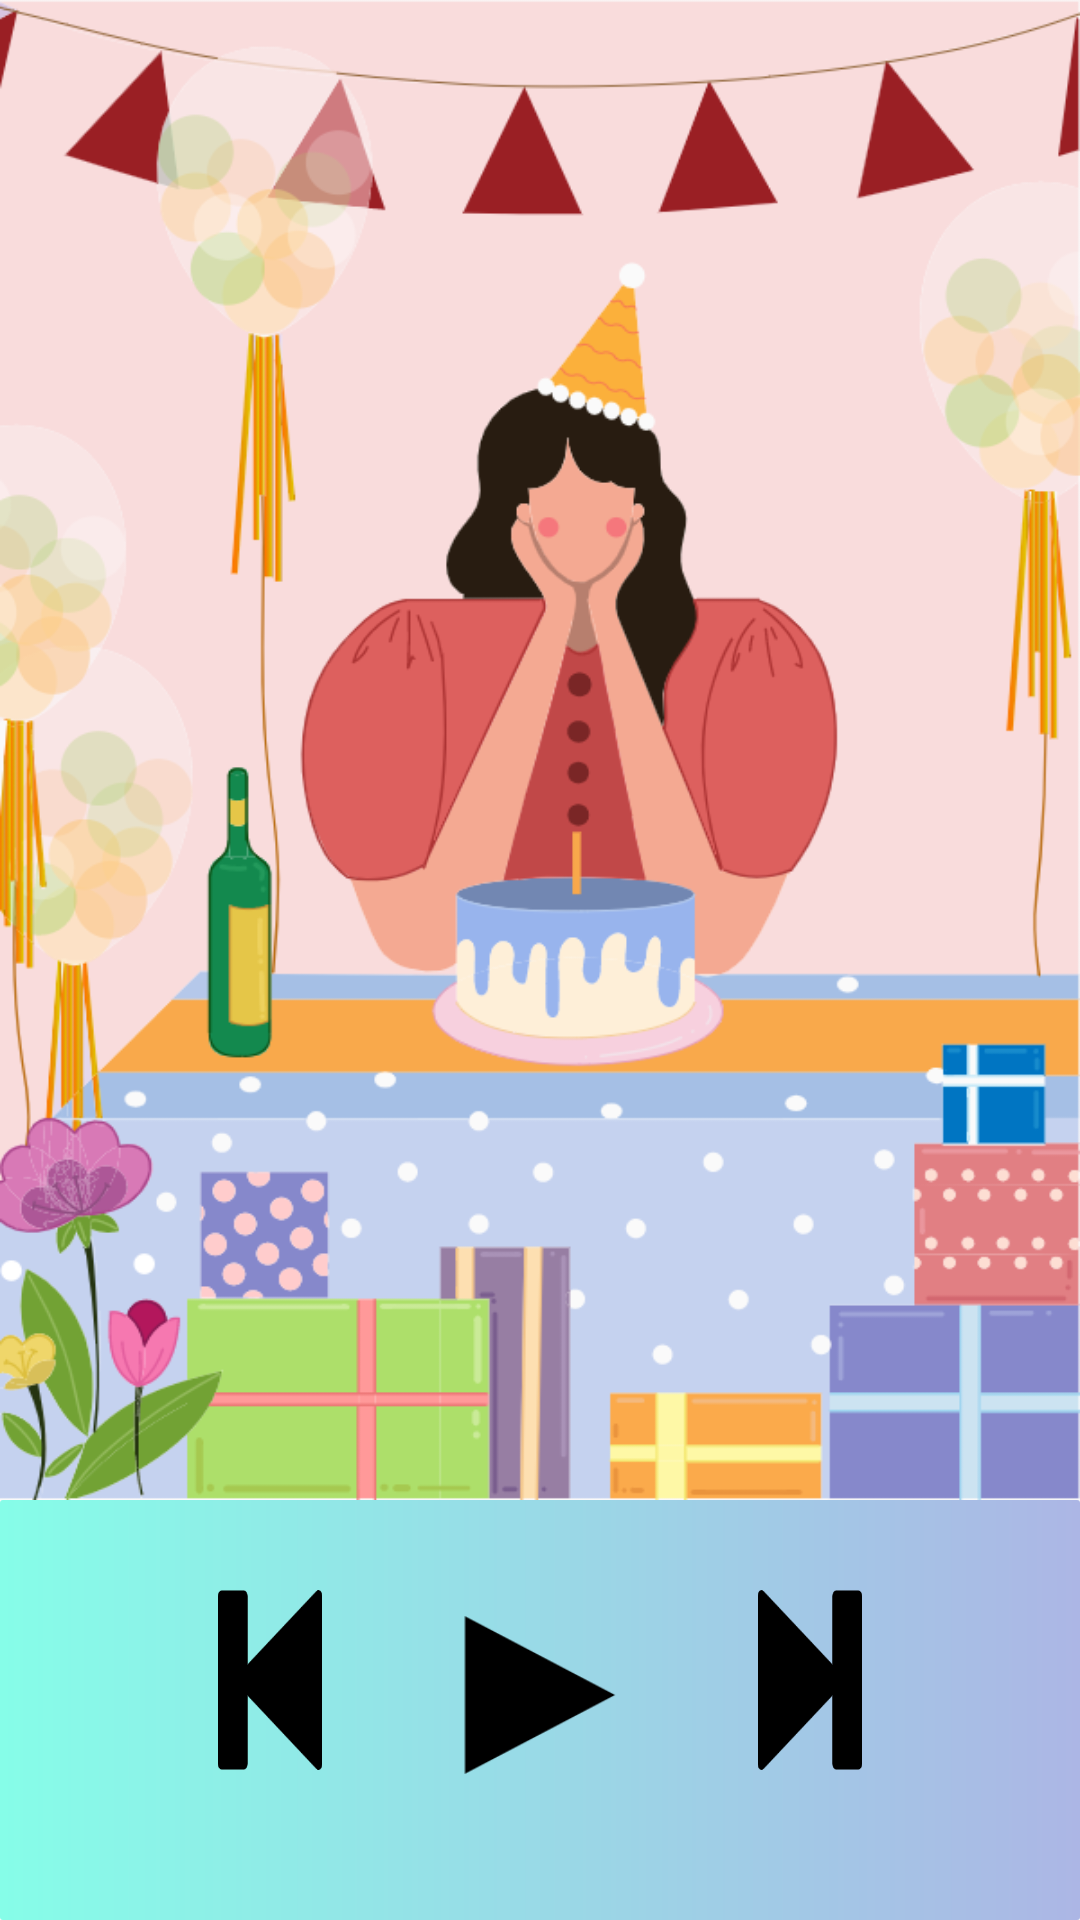

Named icons in this screenshot (1080w x 1920h) and their bounding boxes, (x1=x1, y1=y1, x2=x2, y2=y2):
next: (x1=758, y1=1590, x2=862, y2=1770)
play: (x1=464, y1=1616, x2=615, y2=1774)
prev: (x1=218, y1=1590, x2=322, y2=1770)
